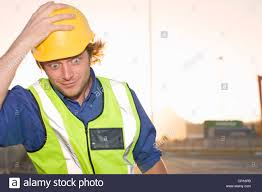hard hat: (29, 3, 94, 62)
high-vis: (27, 77, 140, 172)
